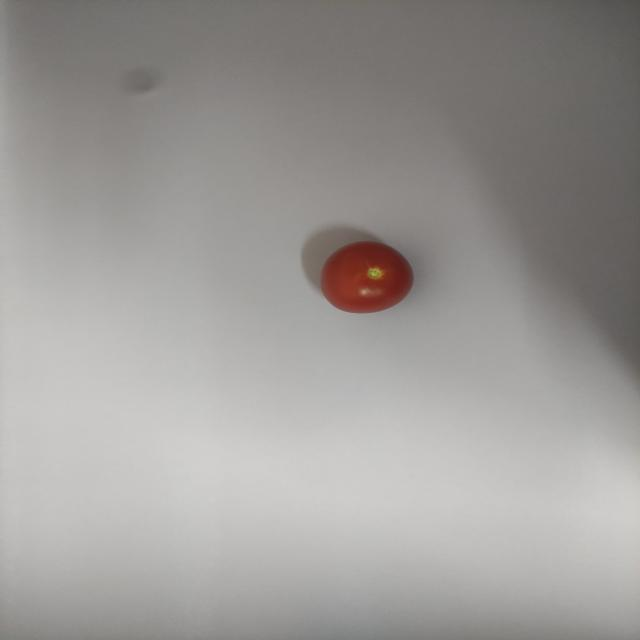kirmizi: (310, 233, 430, 321)
